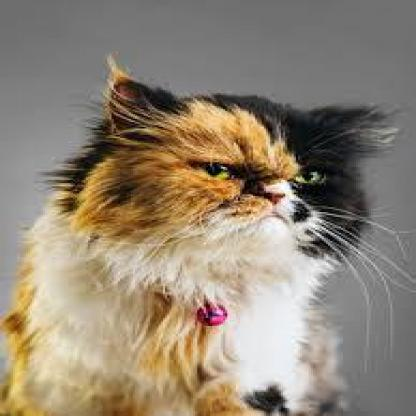gato: (7, 47, 410, 414)
